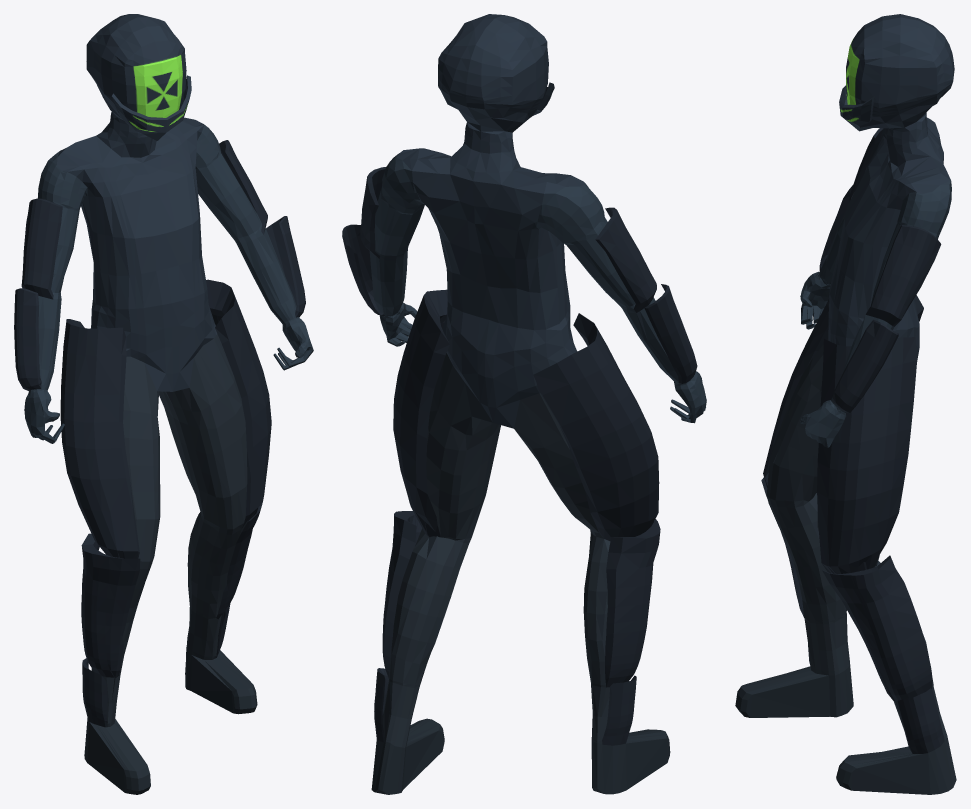
Rendered from Bastion_Stun_000018.obj.
3 renders of one model, left to right at view 1: azimuth 30°, elevation 25°; view 2: azimuth 150°, elevation 25°; view 3: azimuth 270°, elevation 25°, orthographic. The views are drawn at different scales.
Visible parts, largest first — view 1: Cube.002; view 2: Cube.002; view 3: Cube.002.
Boxes of the visible parts, x1,y1,x2,y2 form: Cube.002: (14, 14, 313, 794); Cube.002: (342, 14, 706, 794); Cube.002: (735, 14, 956, 794).
Size of the model in its own units: 1.66 by 3.8 by 1.04.
